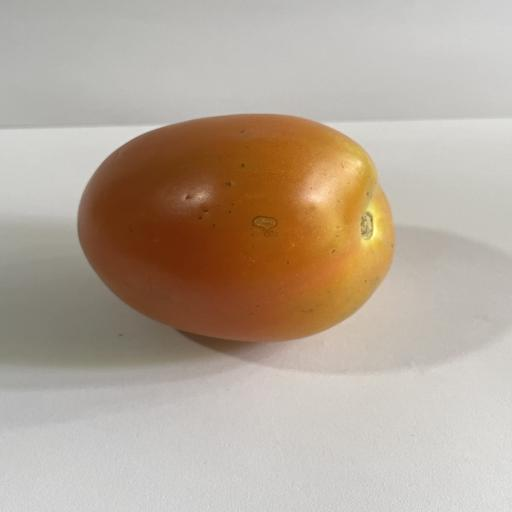unripe: (78, 114, 394, 341)
